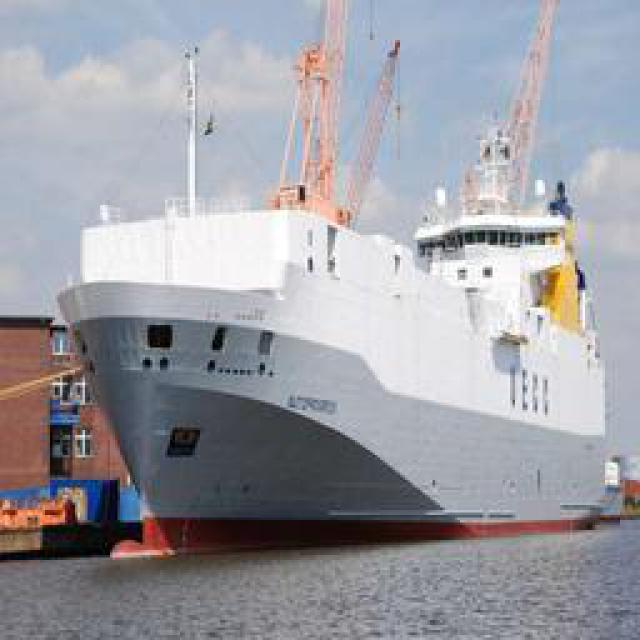Ship: (60, 6, 628, 544)
